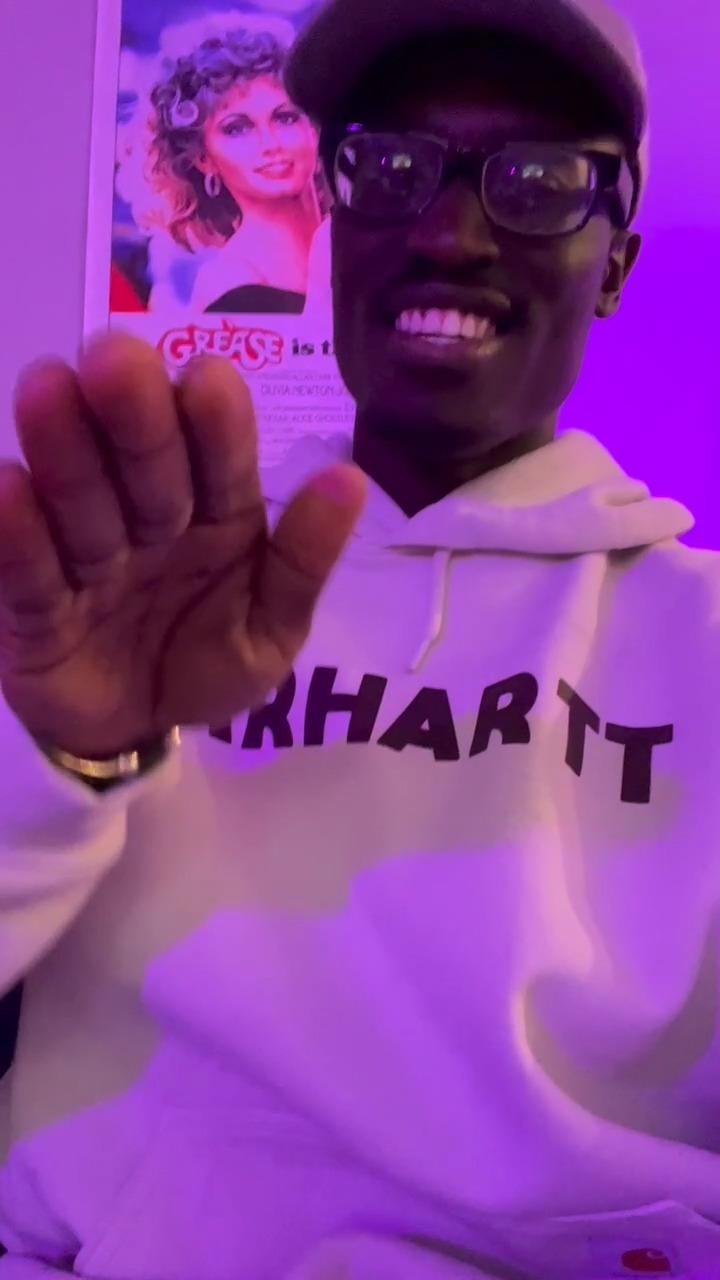Paper: (0, 326, 359, 759)
